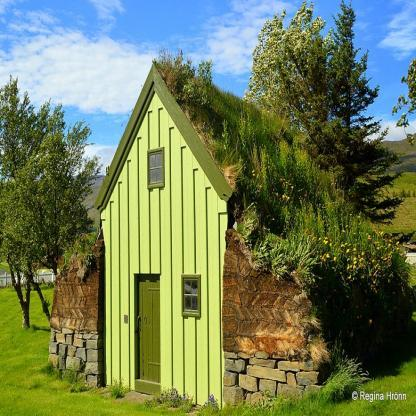Building Outline: (48, 62, 409, 412)
Corner Stone: (221, 229, 321, 412), (48, 239, 104, 388)
Door: (137, 274, 161, 384)
Door Hole: (134, 274, 161, 384)
Facade: (101, 182, 227, 412)
Floor Slab: (100, 204, 227, 220)
Ground Floor: (102, 212, 227, 412)
Top Floor: (100, 91, 227, 212)
Window: (181, 274, 201, 318), (147, 146, 164, 190)
